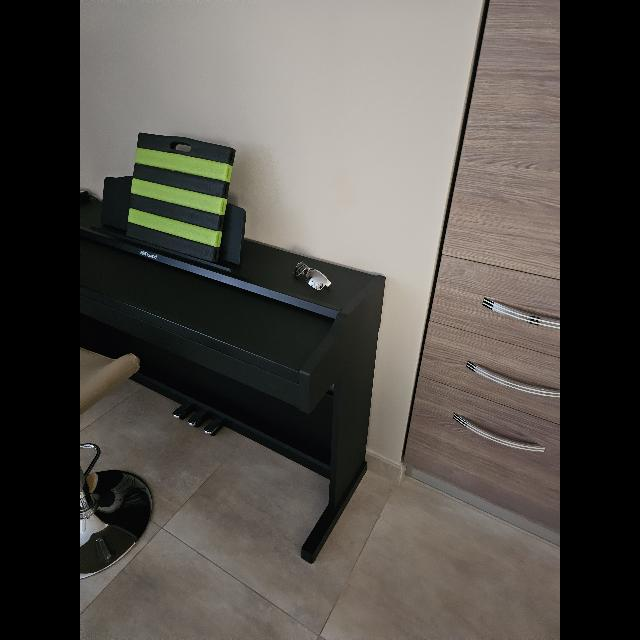Sunglasses: (293, 262, 331, 290)
